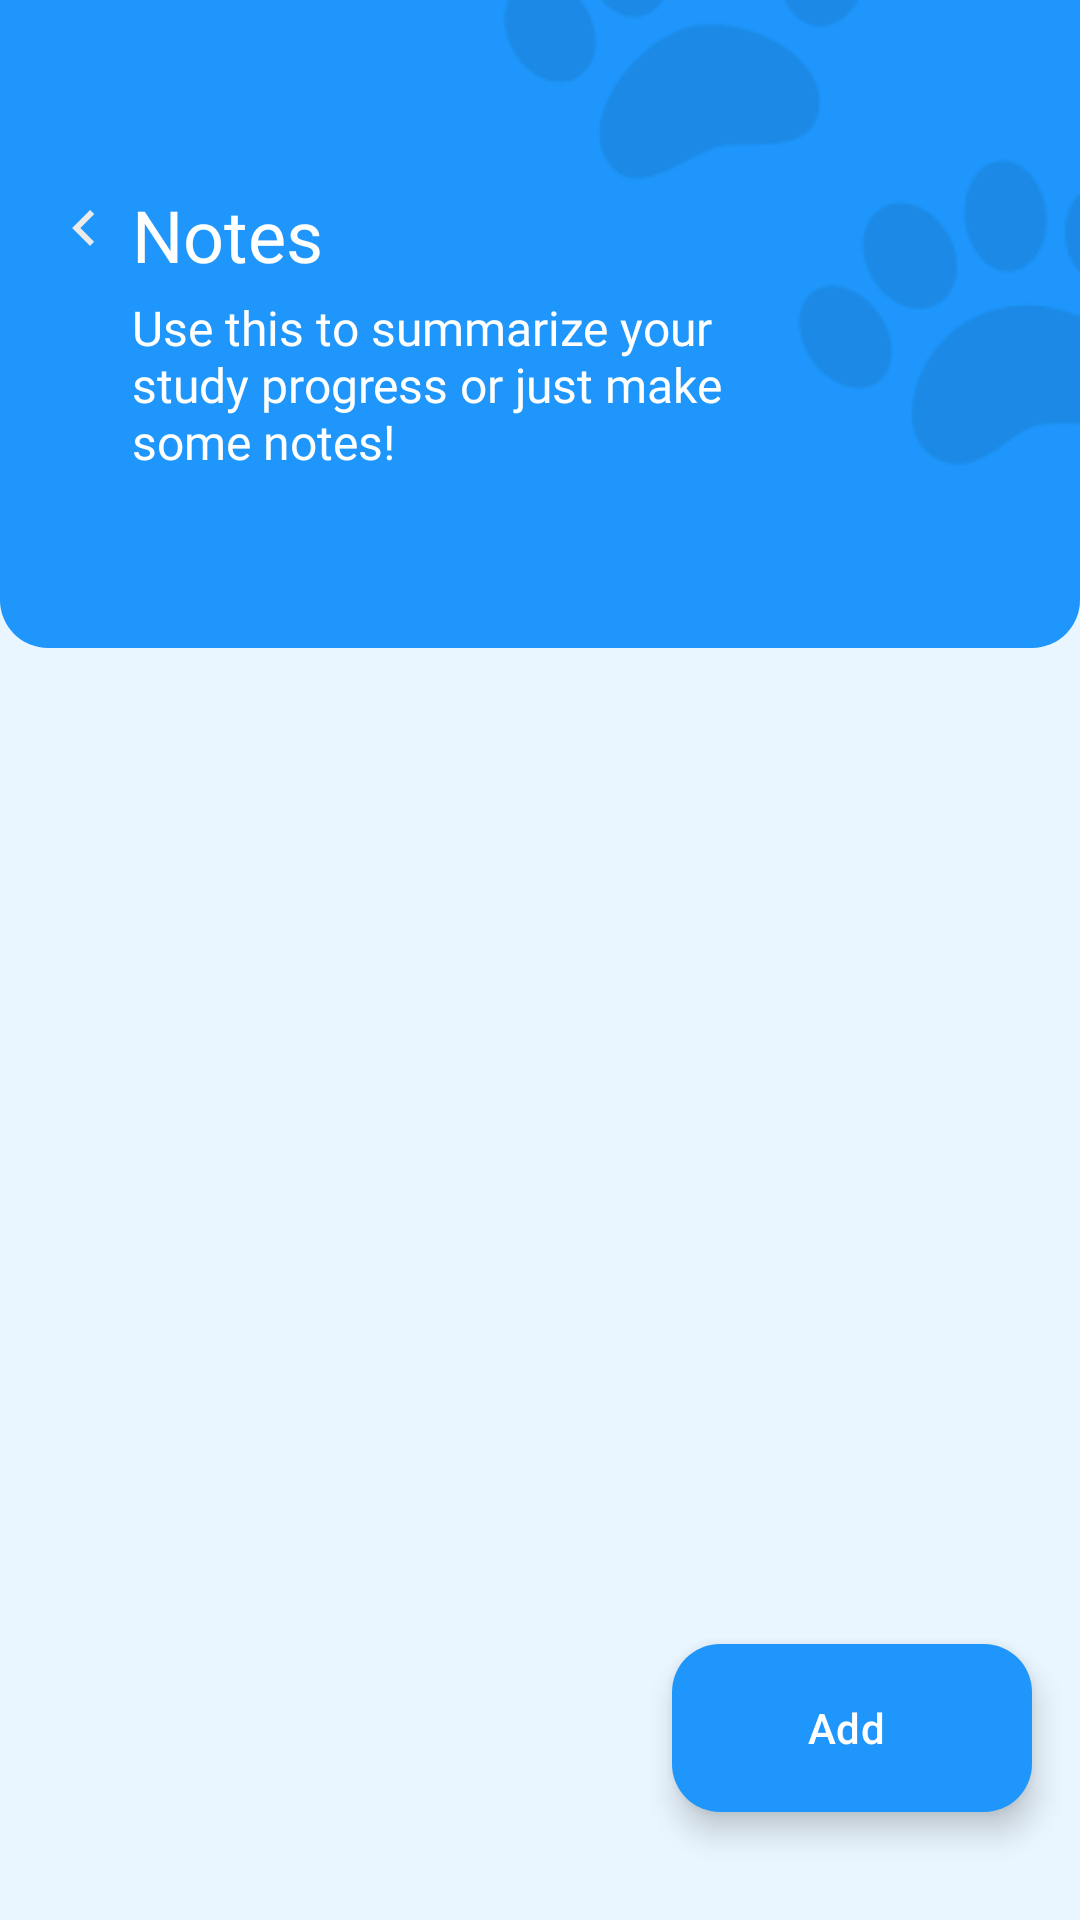

Named icons in this screenshot (1080*1920) and their centers, (x,y):
arrow left: (83,228)
